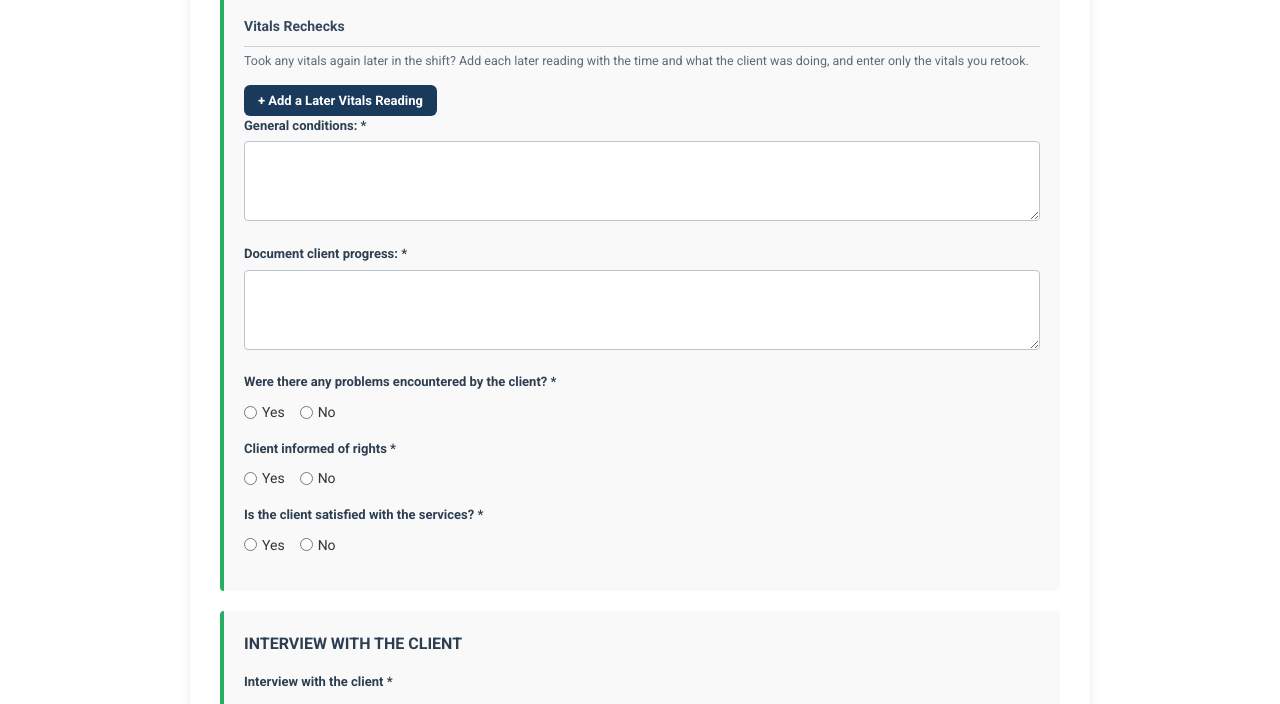
Test: SupervisoryVisitPage › shows the problems box only when problems were encountered
The image size is (1280, 704).
(page scrolled)
Expected: the field labelled "Document the problems encountered" is not shown
Step 1. Click the 1st radio button labelled "Yes" → (250, 412), box [244,406,257,419]
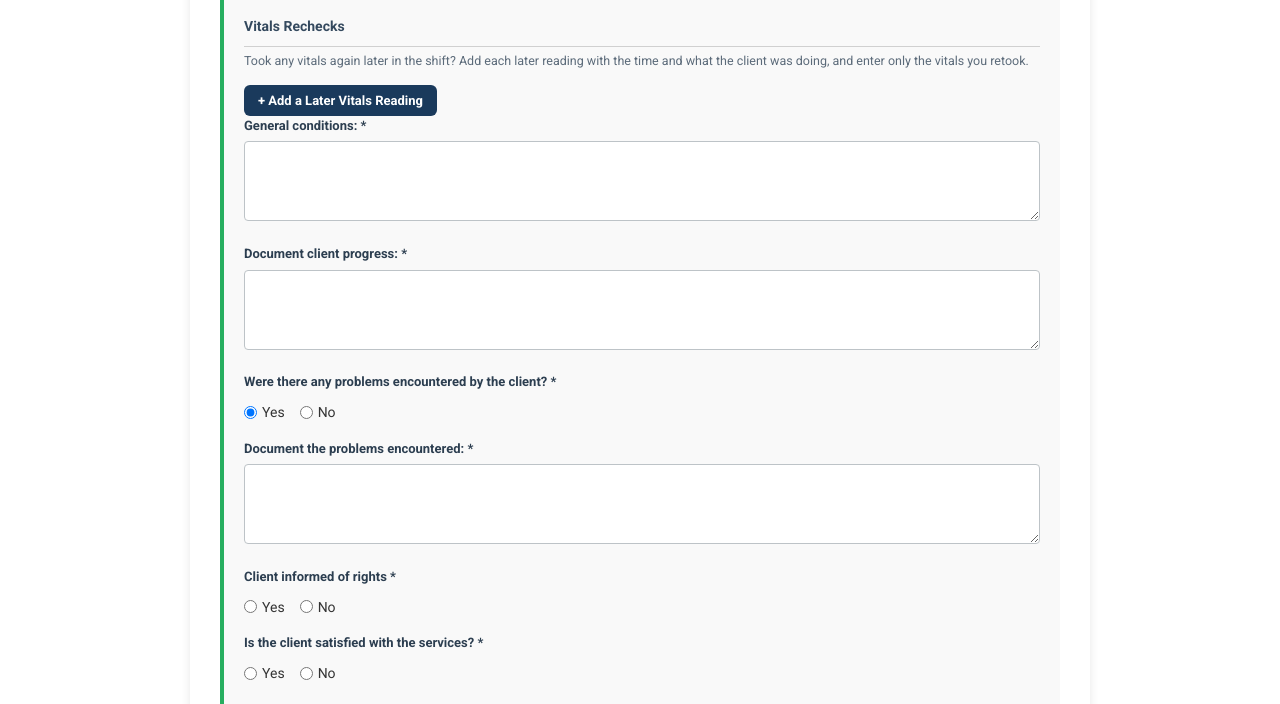
Expected: the text box labelled "Document the problems encountered: *" is shown, [244,464,1040,544]
